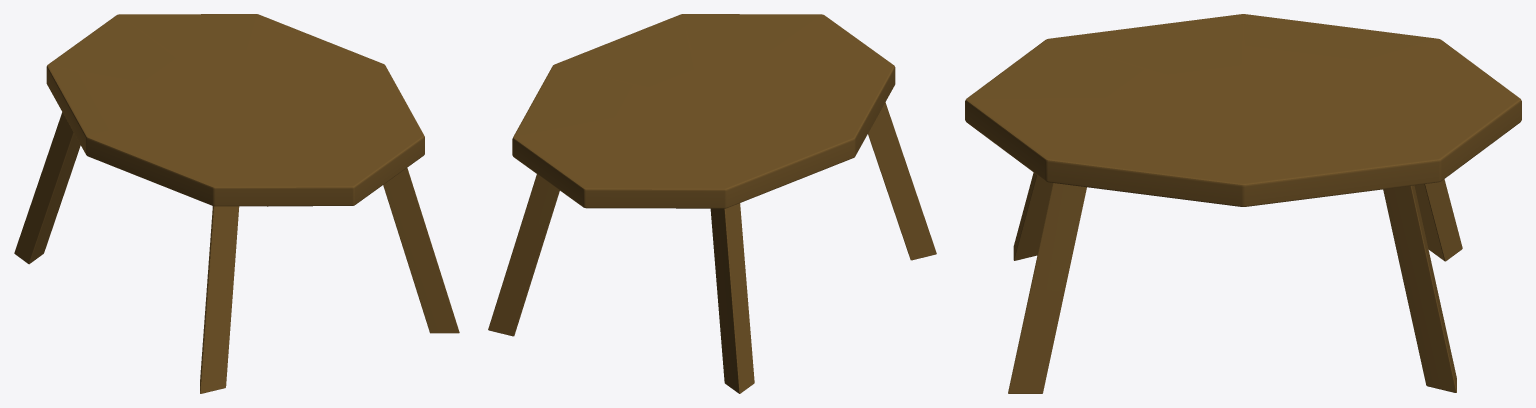
Rendered from Table.fbx.
3 renders of one model, left to right at view 1: azimuth 30°, elevation 25°; view 2: azimuth 150°, elevation 25°; view 3: azimuth 270°, elevation 25°, orthographic. The views are drawn at different scales.
Visible parts, largest first — view 1: TableTop, leg5, leg6, leg1; view 2: TableTop, leg1, leg7, leg5; view 3: TableTop, leg6, leg7, leg1, leg5.
Part boxes in pixels (x1,y1,x2,y2): TableTop: (46, 14, 424, 206); leg5: (200, 206, 239, 393); leg6: (383, 168, 459, 333); leg1: (14, 112, 80, 264); TableTop: (512, 14, 895, 208); leg1: (710, 203, 754, 393); leg7: (488, 174, 559, 336); leg5: (868, 102, 936, 260); TableTop: (965, 14, 1521, 206); leg6: (1008, 183, 1086, 393); leg7: (1383, 185, 1456, 392); leg1: (1414, 179, 1462, 261); leg5: (1013, 172, 1052, 260).
Bounding box in the file's own units: 3.04 × 1.85 × 4.17.
